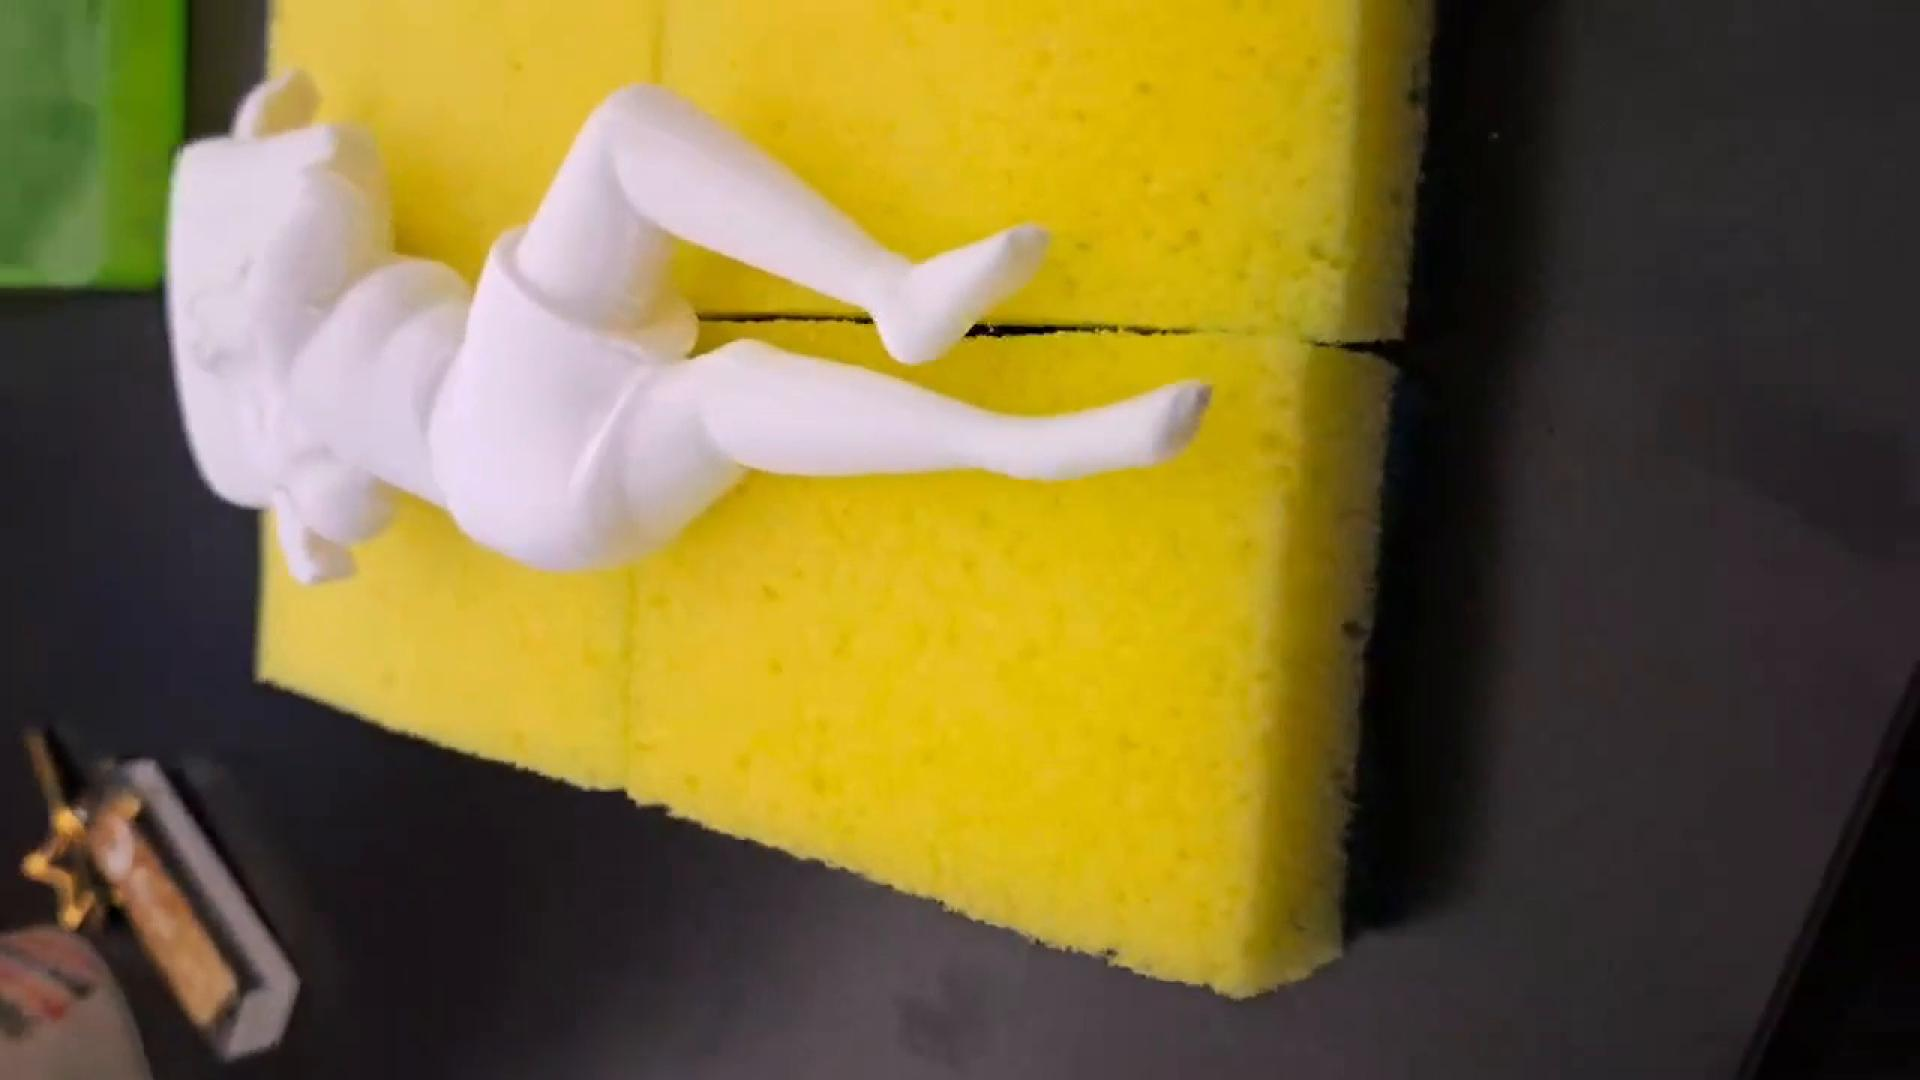Good-style: (165, 65, 1213, 597)
